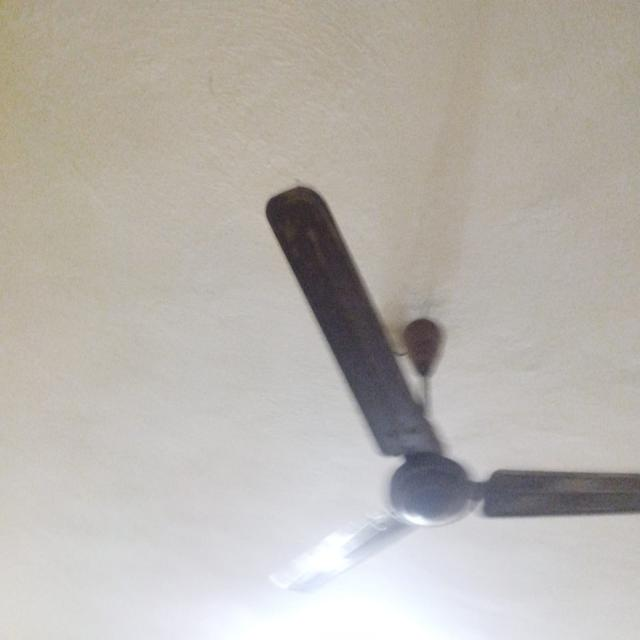fan_off: (267, 186, 640, 592)
